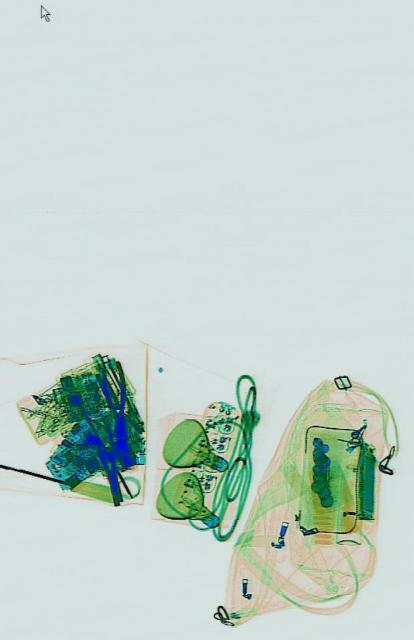Pliers: (97, 358, 134, 450)
